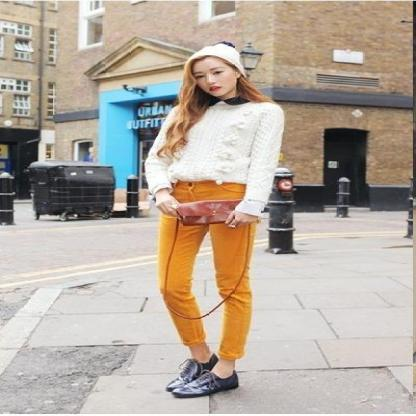bag: (172, 199, 237, 231)
hat: (212, 44, 242, 70)
pants: (158, 179, 259, 362)
shirt: (145, 101, 291, 216)
shoe: (187, 354, 237, 397)
